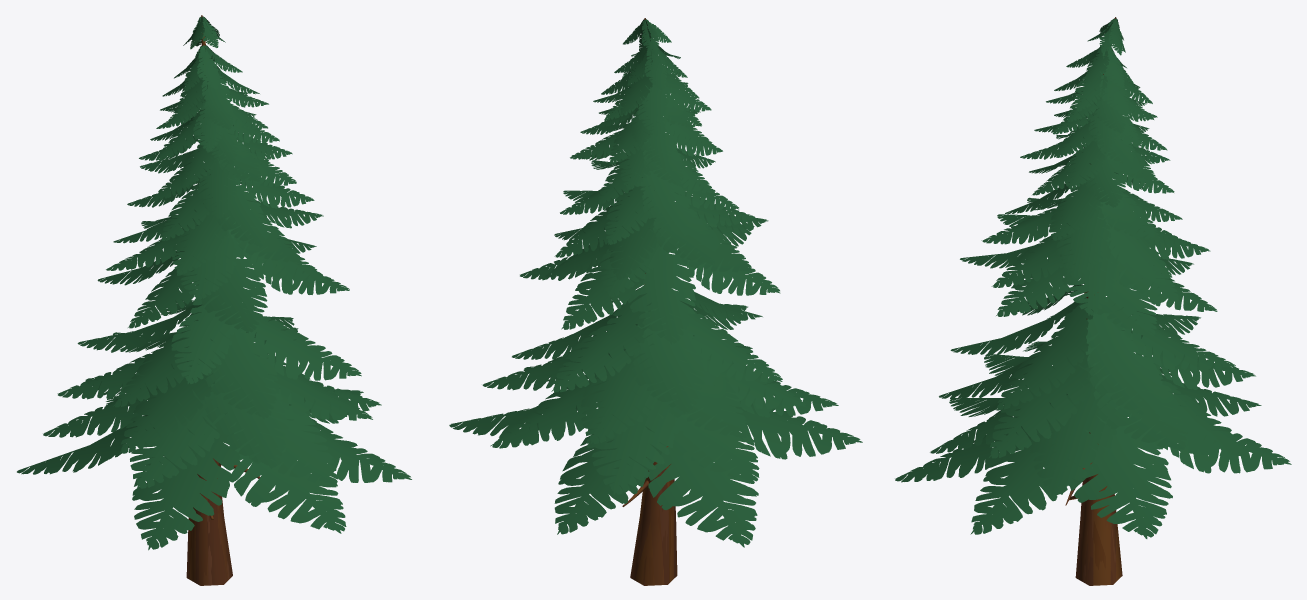
The model's file is pine_01.glb.
3 renders of one model, left to right at view 1: azimuth 30°, elevation 25°; view 2: azimuth 150°, elevation 25°; view 3: azimuth 270°, elevation 25°, orthographic.
Visible parts, largest first — view 1: pine_01; view 2: pine_01; view 3: pine_01.
Part boxes in pixels (box(x1,y1,x2,y2)): pine_01: box(17, 15, 411, 585); pine_01: box(449, 18, 862, 585); pine_01: box(895, 17, 1291, 585).
Size of the model in its own units: 8.37 by 12.85 by 8.33.
Materials: 2 (2 with a texture image).
